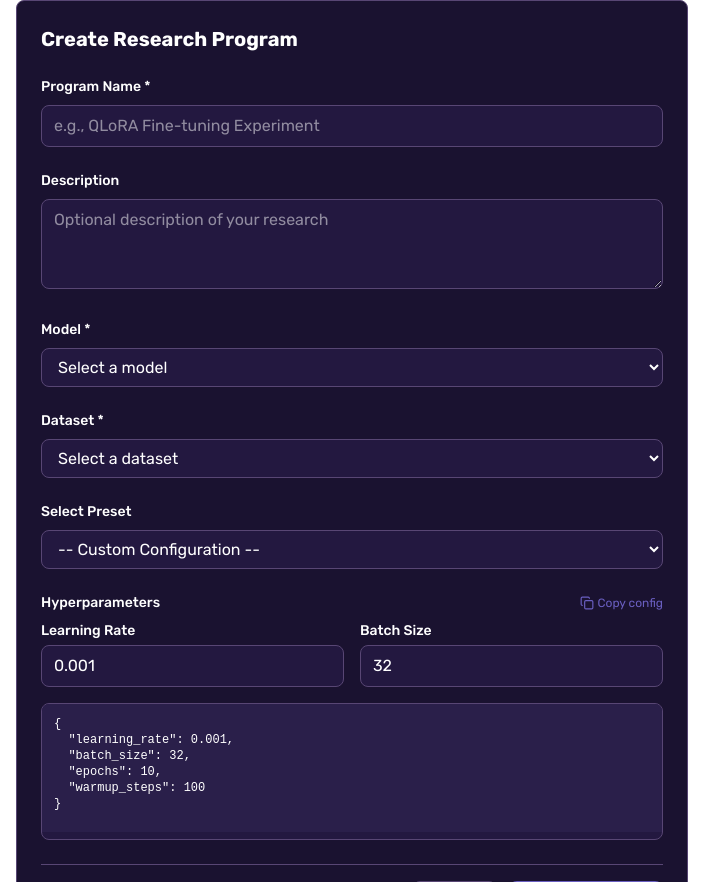
Test: ResearchProgramEditor › Preset Loading › should show preset description
This screenshot has width=705, height=882.
Select "Aggressive Training" in the dropdown labelled "Select Preset" at (352, 550), box x1=41 y1=530 x2=663 y2=569
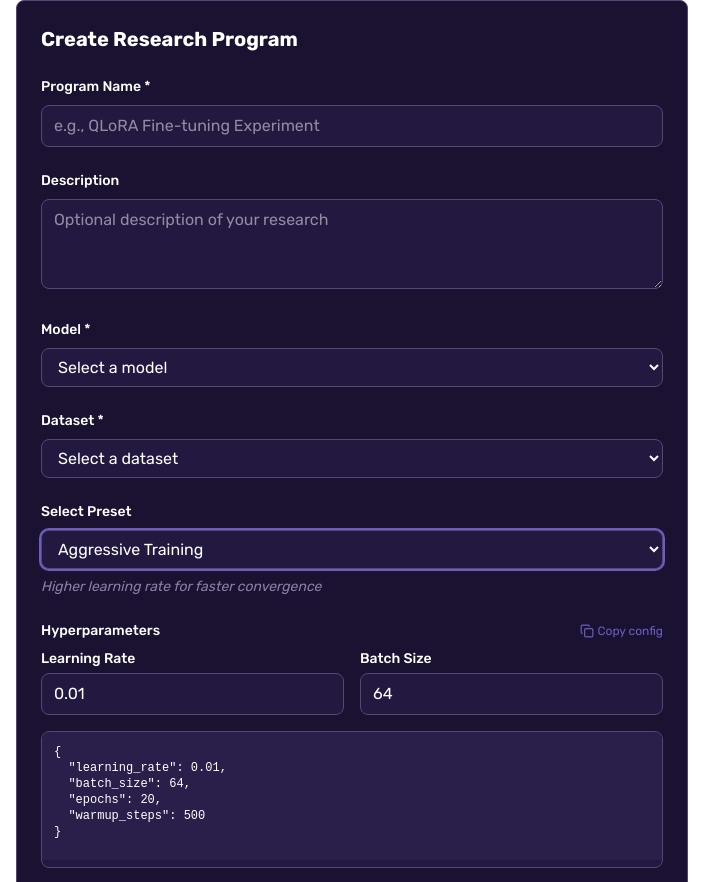
Result: the text "Higher learning rate for faster convergence" is shown at x1=41 y1=578 x2=322 y2=595
